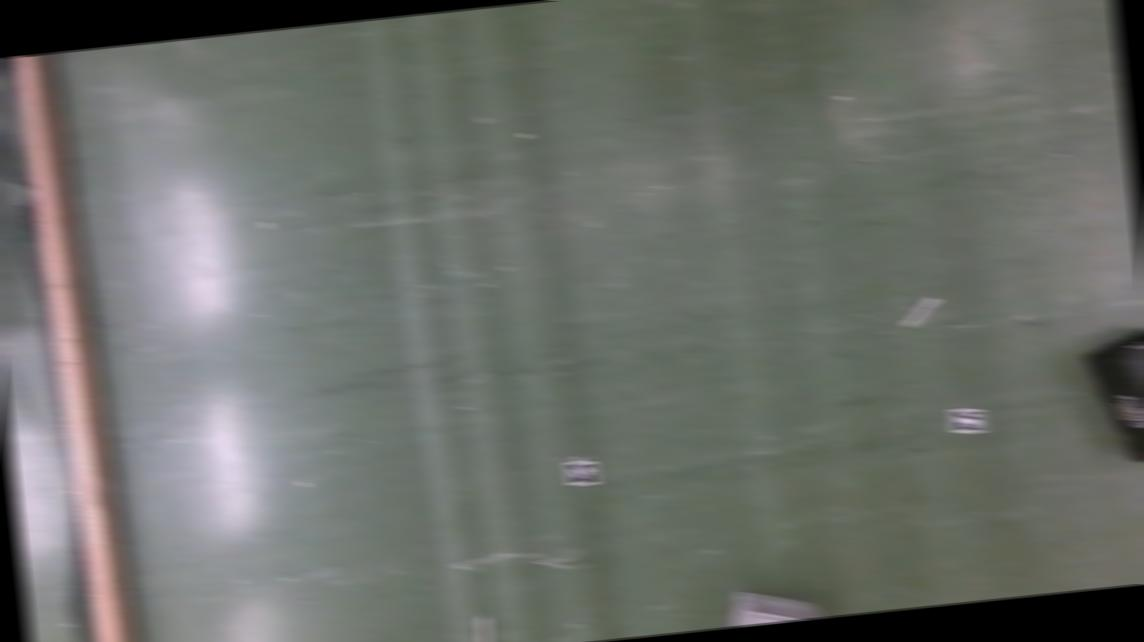probes: (900, 294, 940, 328), (474, 613, 492, 642)
rako: (1081, 325, 1144, 477), (712, 580, 834, 628)
